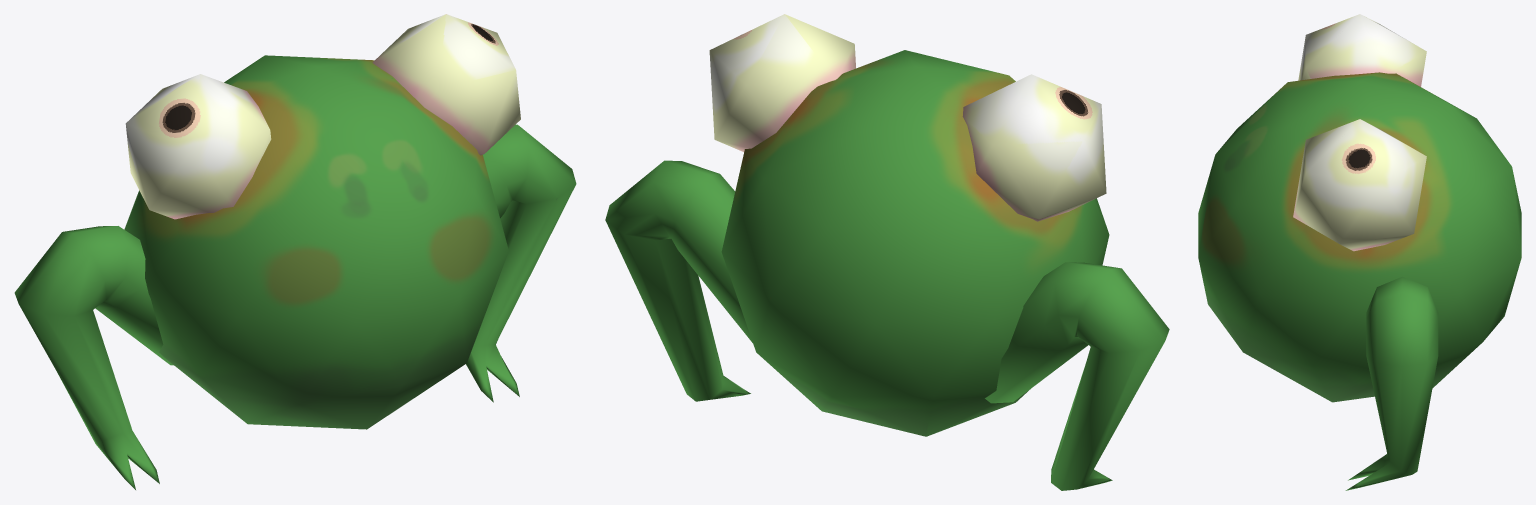
Rendered from frog.fbx.
3 views of the same model, side by side, from view 1: azimuth 30°, elevation 25°; view 2: azimuth 150°, elevation 25°; view 3: azimuth 270°, elevation 25° (orthographic). The views are drawn at different scales.
Visible parts, largest first — view 1: Icosphere; view 2: Icosphere; view 3: Icosphere.
Part boxes in pixels (bbox=[...]): Icosphere: bbox=[14, 14, 576, 489]; Icosphere: bbox=[605, 14, 1169, 490]; Icosphere: bbox=[1198, 14, 1521, 490].
Size of the model in its own units: 3.29 by 2.24 by 1.9.
